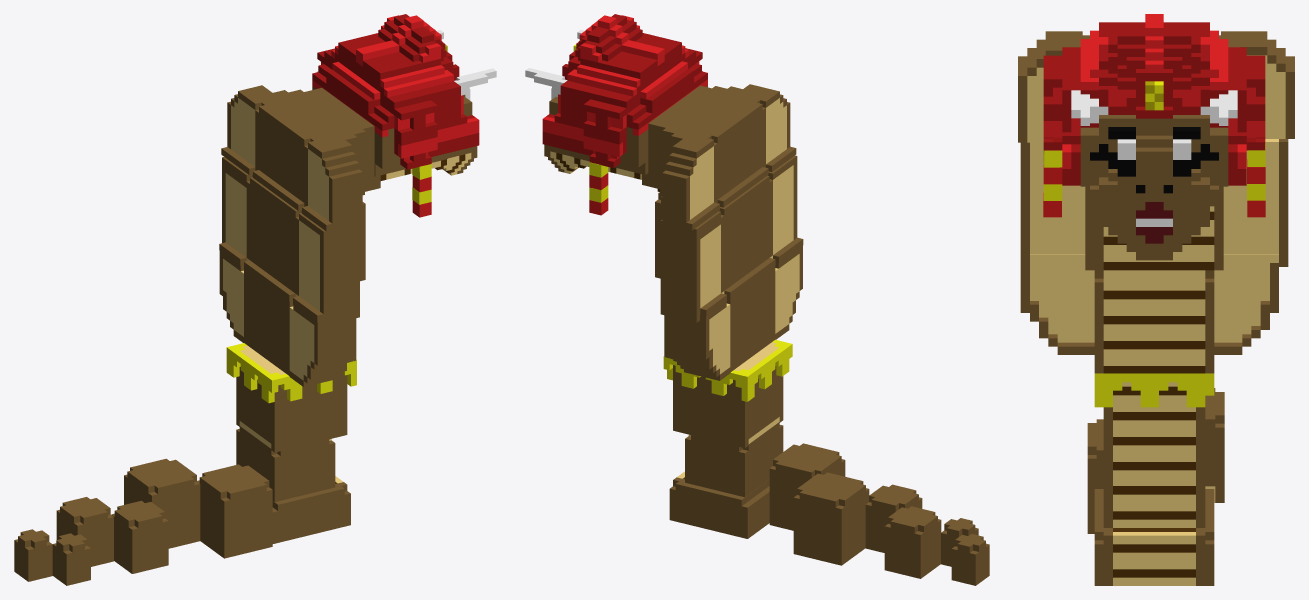
Rendered from Naz.fbx.
3 views of the same model, side by side, from view 1: azimuth 30°, elevation 25°; view 2: azimuth 150°, elevation 25°; view 3: azimuth 270°, elevation 25° (orthographic). The views are drawn at different scales.
Visible parts, largest first — view 1: head3, body_fin_top, body_Fin_Mid, body_fin_bottom, skirt_top, tail_One, skirt_middle, taill_two, tail_three, skirt_bottom, tail_Four, tail_five (+1 smaller); view 2: head3, body_fin_top, body_Fin_Mid, body_fin_bottom, skirt_top, taill_two, skirt_middle, skirt_bottom, tail_Four, tail_One, tail_three, tail_six (+1 smaller); view 3: head3, body_fin_bottom, body_Fin_Mid, skirt_top, skirt_bottom, body_fin_top, skirt_middle, taill_two, tail_One.
Part boxes in pixels (x1,y1,x2,y2): head3: (312,14,496,180); body_fin_top: (221,85,380,231); body_Fin_Mid: (219,157,365,321); body_fin_bottom: (219,251,359,386); skirt_top: (226,343,356,452); tail_One: (197,464,272,558); skirt_middle: (236,426,335,501); taill_two: (124,458,200,548); tail_three: (111,500,168,573); skirt_bottom: (272,476,350,543); tail_Four: (56,497,113,566); tail_five: (52,533,90,585); head3: (525,14,707,179); body_fin_top: (642,84,796,230); body_Fin_Mid: (655,155,803,316); body_fin_bottom: (660,246,802,380); skirt_top: (663,339,792,447); taill_two: (793,472,869,565); skirt_middle: (685,422,783,497); skirt_bottom: (669,471,769,538); tail_Four: (884,506,941,578); tail_One: (769,443,845,530); tail_three: (865,484,922,552); tail_six: (951,534,989,585); head3: (1043,14,1265,260); body_fin_bottom: (1020,254,1288,373); body_Fin_Mid: (1020,139,1288,273); skirt_top: (1094,373,1214,470); skirt_bottom: (1094,489,1214,585); body_fin_top: (1018,31,1294,142); skirt_middle: (1103,470,1205,527); taill_two: (1205,388,1224,502); tail_One: (1087,419,1103,533).
Bounding box in the file's own units: 72.65 × 73.8 × 30.
Materials: 12 (12 with a texture image).
